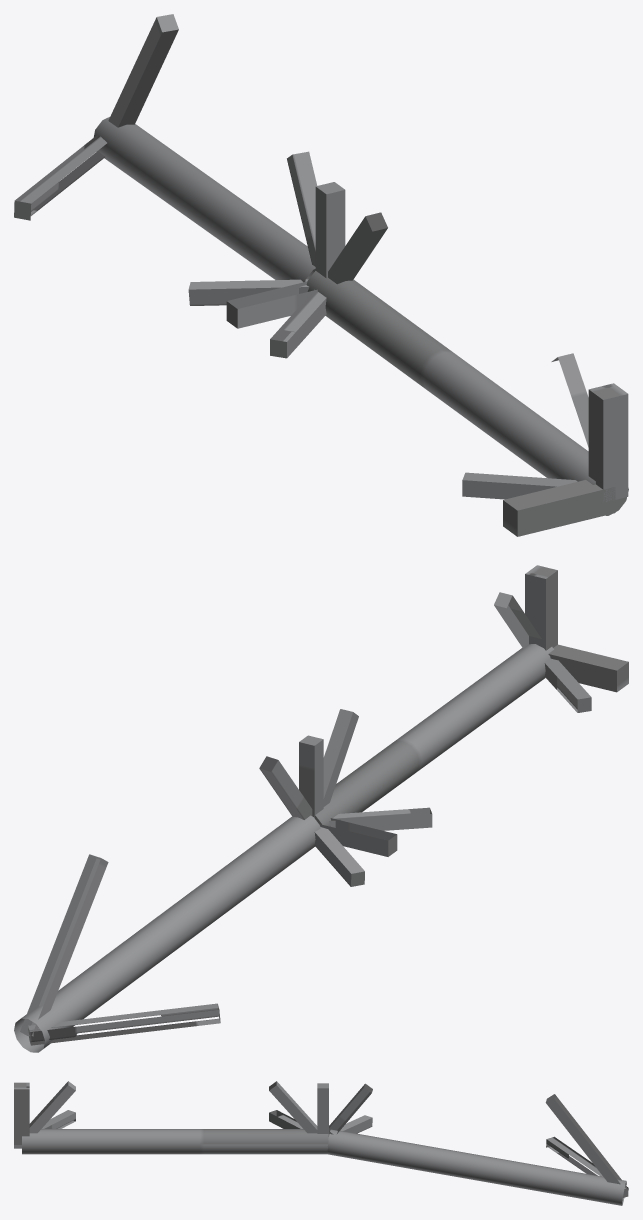
The picture shows the model from 3 angles, top to bottom: view 1: azimuth 30°, elevation 25°; view 2: azimuth 150°, elevation 25°; view 3: azimuth 270°, elevation 25°; orthographic projection. The views are drawn at different scales.
Size of the model in its own units: 0.4731 by 0.4726 by 2.5.
